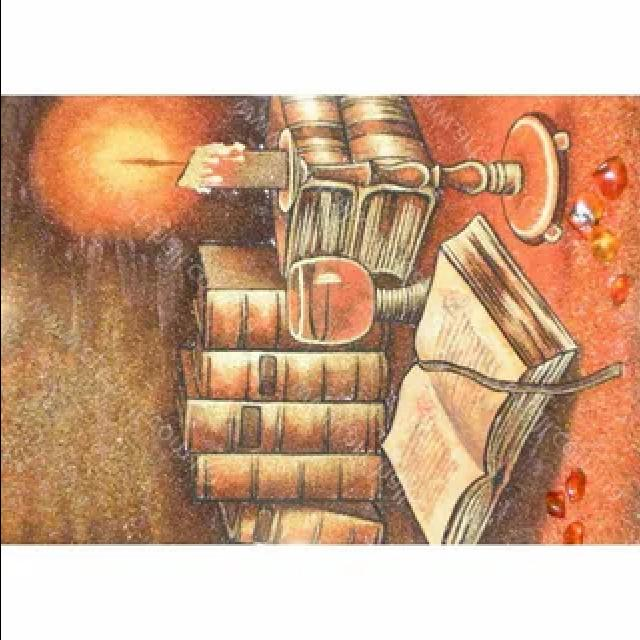book: (377, 217, 580, 542)
